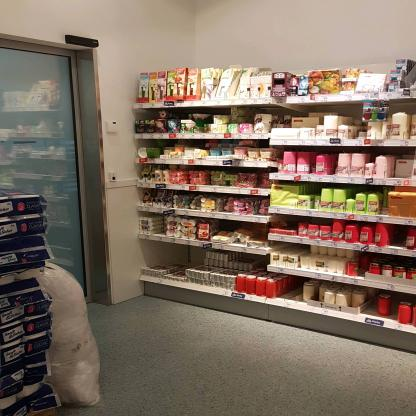Void: (144, 241, 198, 265), (286, 281, 300, 299), (393, 226, 404, 248), (306, 185, 322, 194)
